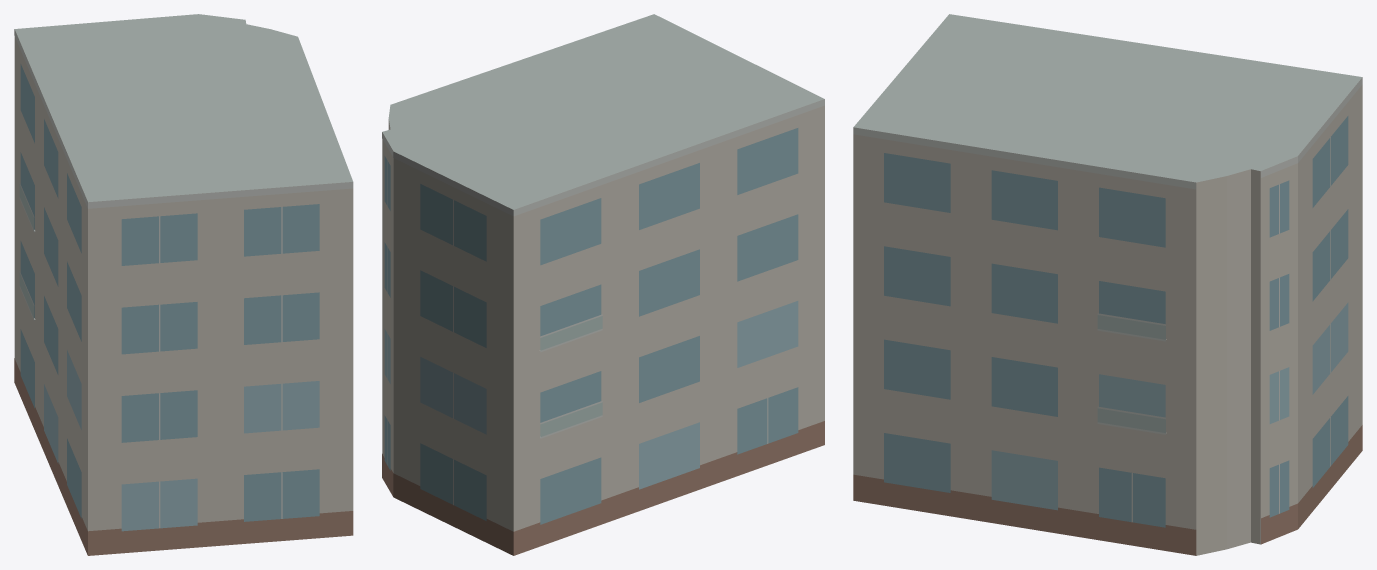
The model's file is survey-upis-32849554.glb.
3 renders of one model, left to right at view 1: azimuth 30°, elevation 25°; view 2: azimuth 150°, elevation 25°; view 3: azimuth 270°, elevation 25°, orthographic. The views are drawn at different scales.
Parts seen in each view (by area): view 1: survey-upis-32849554.tmp; view 2: survey-upis-32849554.tmp; view 3: survey-upis-32849554.tmp.
Boxes of the visible parts, box(x1,y1,x2,y2) form: survey-upis-32849554.tmp: box(14, 14, 353, 555); survey-upis-32849554.tmp: box(382, 14, 824, 555); survey-upis-32849554.tmp: box(853, 14, 1362, 555).
Bounding box in the file's own units: 12.59 × 13 × 16.08.
